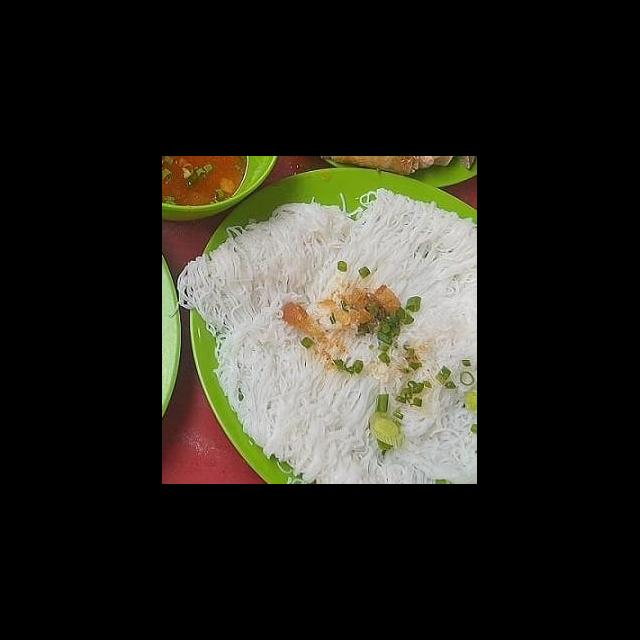banh hoi: (304, 184, 478, 440), (205, 288, 418, 484), (168, 189, 366, 365), (378, 389, 478, 484)
